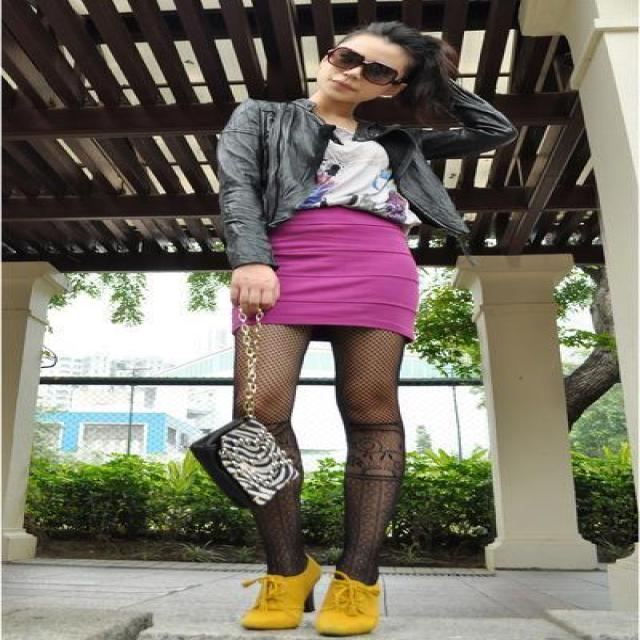bag: (190, 294, 298, 507)
jacket: (211, 98, 517, 265)
shirt: (299, 113, 421, 230)
shoe: (242, 576, 379, 639)
skirt: (250, 208, 440, 341)
sunglass: (332, 51, 386, 84)
